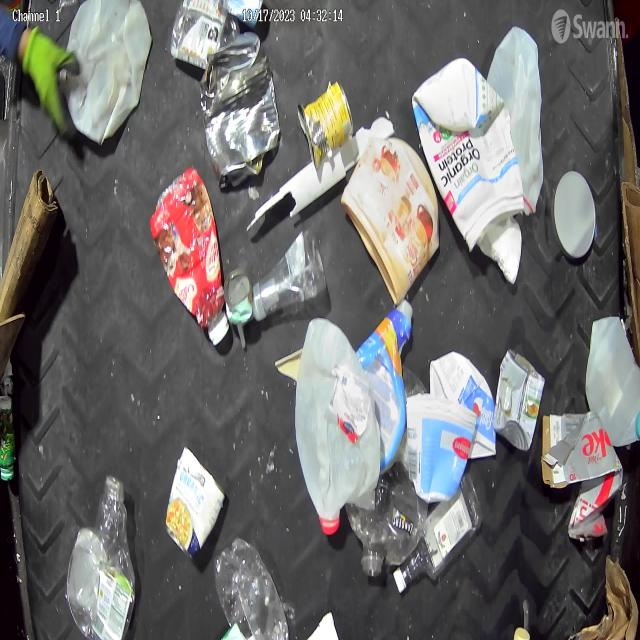milk-jug: (292, 310, 383, 560)
